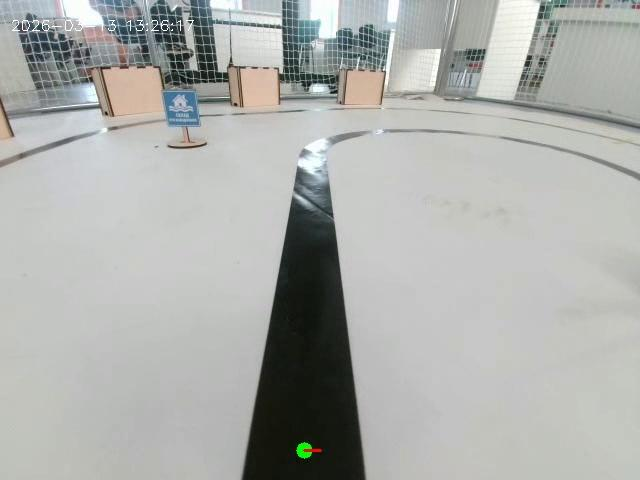flood: (164, 86, 199, 137)
